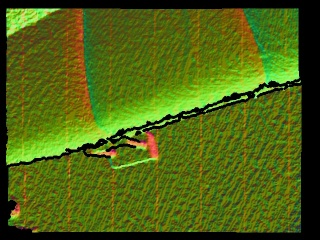station: (83, 131, 157, 168)
